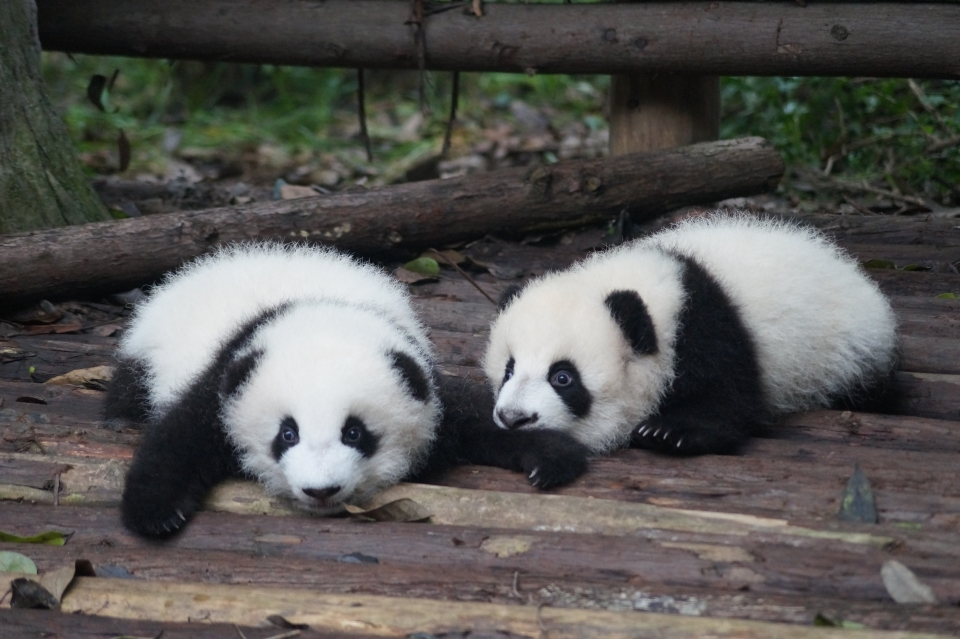panda: (74, 184, 471, 567)
